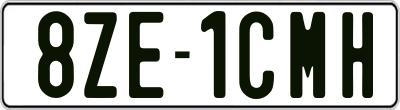1: (200, 8, 230, 98)
8: (38, 10, 78, 97)
C: (237, 12, 277, 102)
E: (128, 10, 163, 97)
H: (342, 12, 373, 101)
M: (290, 10, 328, 102)
Z: (82, 10, 117, 97)
